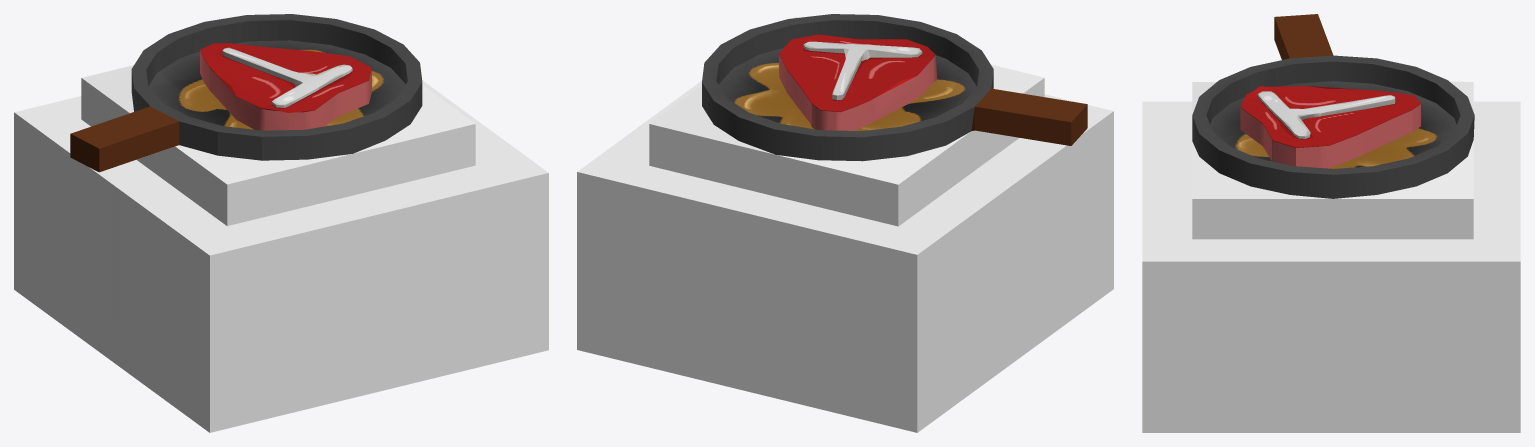
The model's file is OilPan.obj.
The picture shows the model from 3 angles, left to right: view 1: azimuth 30°, elevation 25°; view 2: azimuth 150°, elevation 25°; view 3: azimuth 270°, elevation 25°; orthographic projection. The views are drawn at different scales.
Visible parts, largest first — view 1: OilPan:pasted__pasted__pCube1pasted__groupgroup3; view 2: OilPan:pasted__pasted__pCube1pasted__groupgroup3; view 3: OilPan:pasted__pasted__pCube1pasted__groupgroup3.
Part boxes in pixels (bbox=[...]): OilPan:pasted__pasted__pCube1pasted__groupgroup3: bbox=[14, 14, 548, 432]; OilPan:pasted__pasted__pCube1pasted__groupgroup3: bbox=[577, 14, 1113, 432]; OilPan:pasted__pasted__pCube1pasted__groupgroup3: bbox=[1142, 14, 1520, 432].
Size of the model in its own units: 1.14 by 0.7145 by 1.
Materials: 2 (2 with a texture image).
